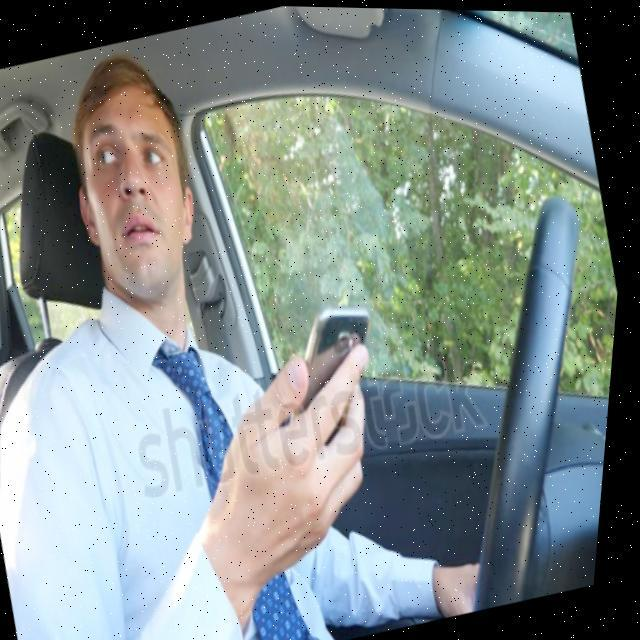PhoneCall: (275, 297, 406, 449)
